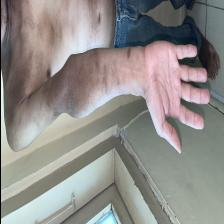DA: (78, 50, 107, 106)
